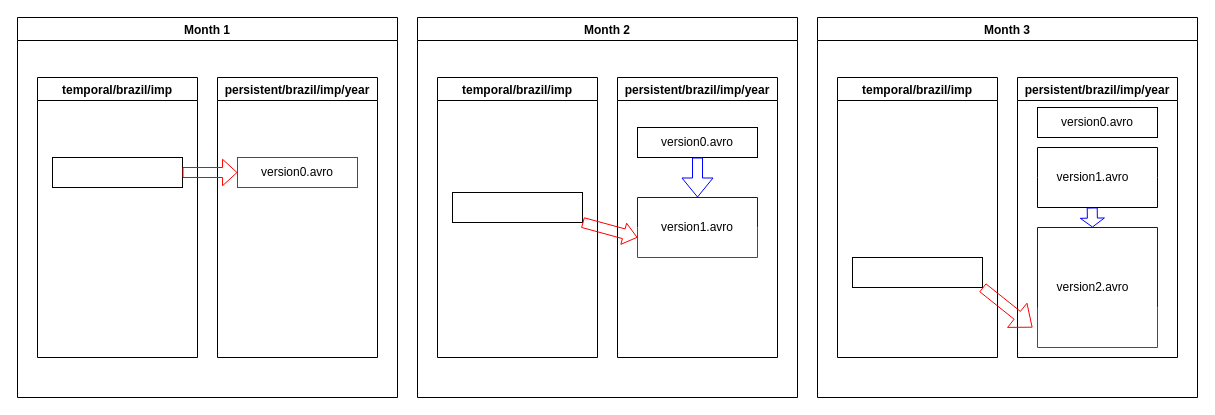
The diagram is 1215 pixels wide and 415 high, and some of its shapes have lost their labels. The centre of each missing label's shape, as x and y in pixels:
Brazil_month0.csv: (117,172)
Brazil_month1.csv: (517,207)
Import_month2.csv: (917,272)
